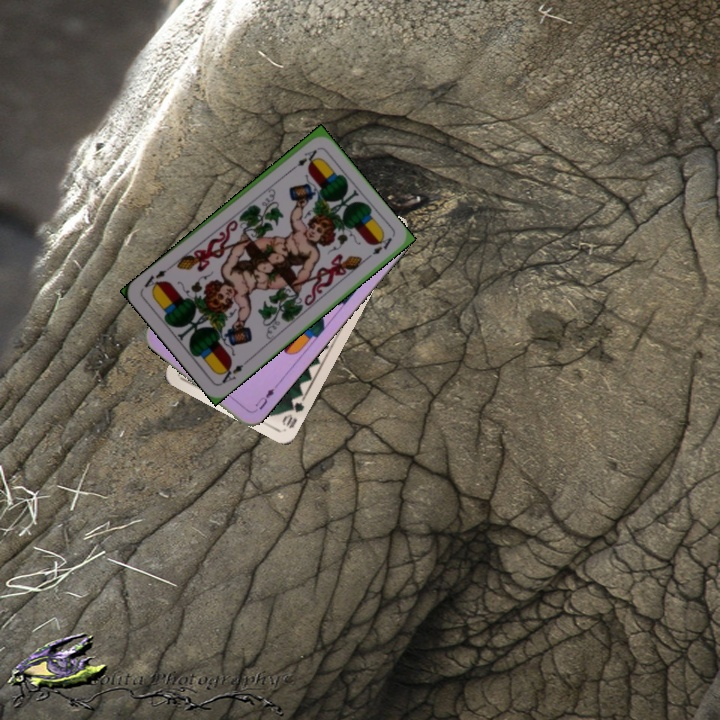EA: (216, 356, 250, 387), (286, 146, 320, 174)
EU: (249, 381, 279, 415)
G10: (278, 391, 307, 431)
